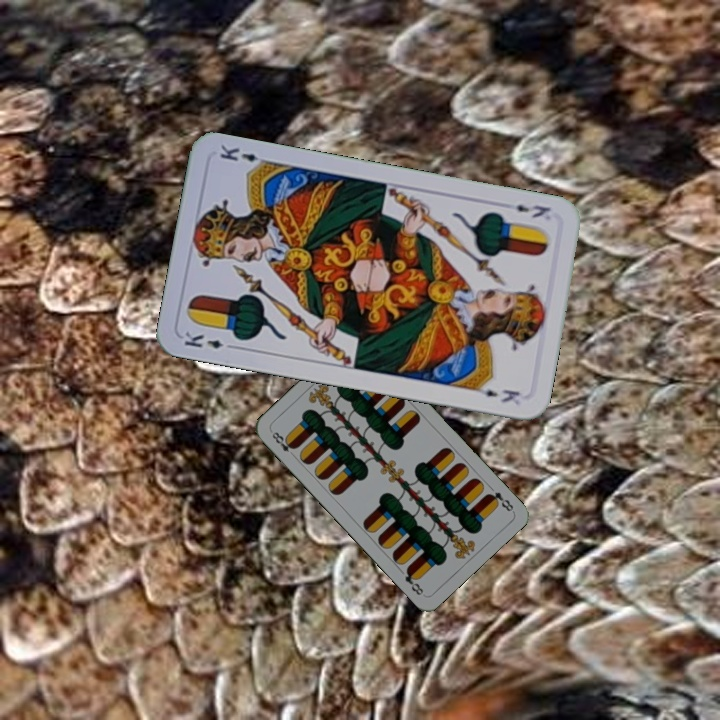E8: (267, 427, 299, 460), (482, 488, 516, 514)
EK: (180, 328, 239, 352), (512, 200, 553, 221)
